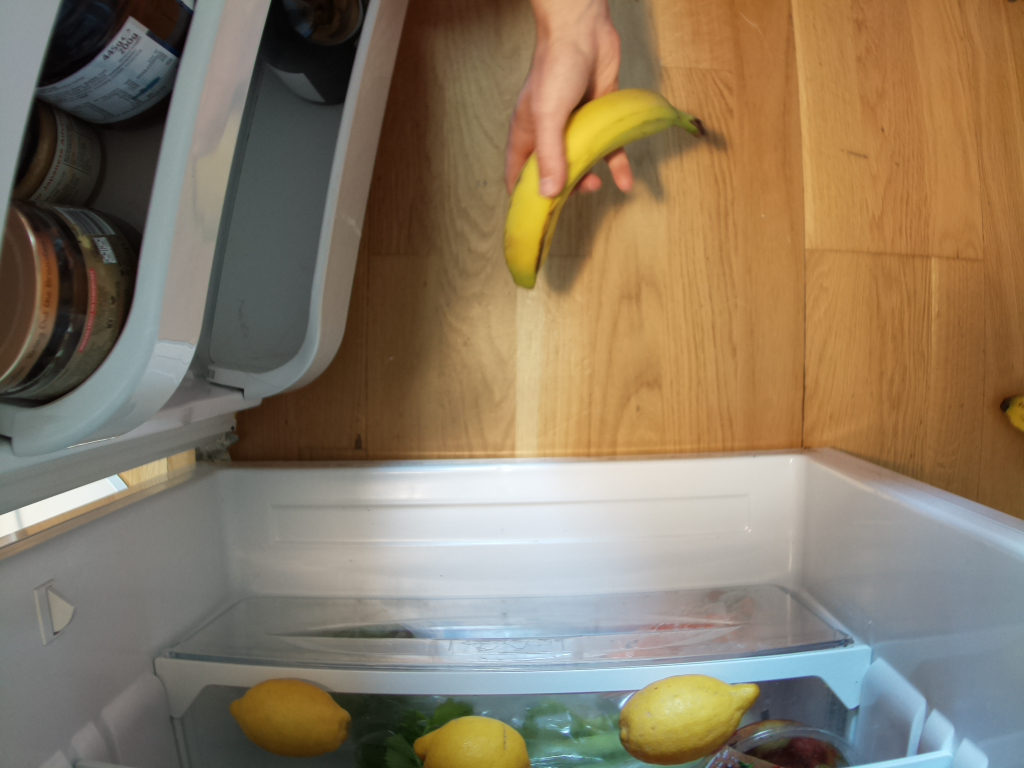banana-unripe: (508, 89, 710, 287)
